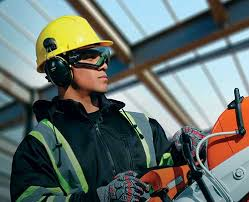Person_wearing_helmet: (25, 10, 113, 74)
